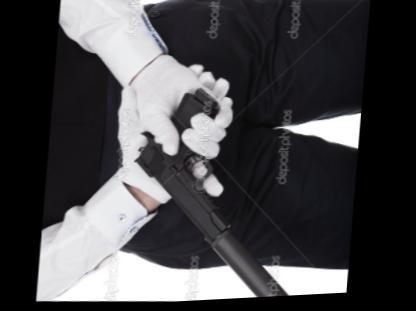pistol: (107, 80, 324, 305)
